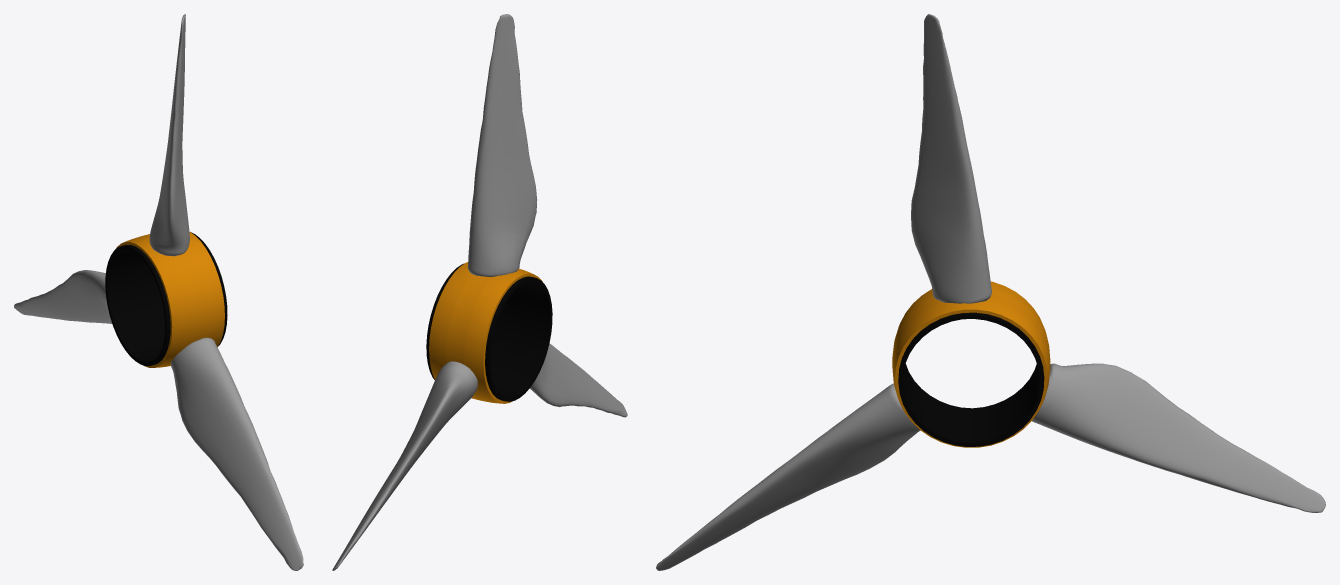
File: TidalTurbine_Blades.dae
3 renders of one model, left to right at view 1: azimuth 30°, elevation 25°; view 2: azimuth 150°, elevation 25°; view 3: azimuth 270°, elevation 25°, orthographic. The views are drawn at different scales.
Visible parts, largest first — view 1: TidalTurbine_Blades; view 2: TidalTurbine_Blades; view 3: TidalTurbine_Blades.
Boxes of the visible parts, left/top/right/bottom form: TidalTurbine_Blades: left=14, top=14, right=303, bottom=570; TidalTurbine_Blades: left=332, top=14, right=627, bottom=570; TidalTurbine_Blades: left=656, top=14, right=1325, bottom=570.
Size of the model in its own units: 0.947 by 7.04 by 7.67.
